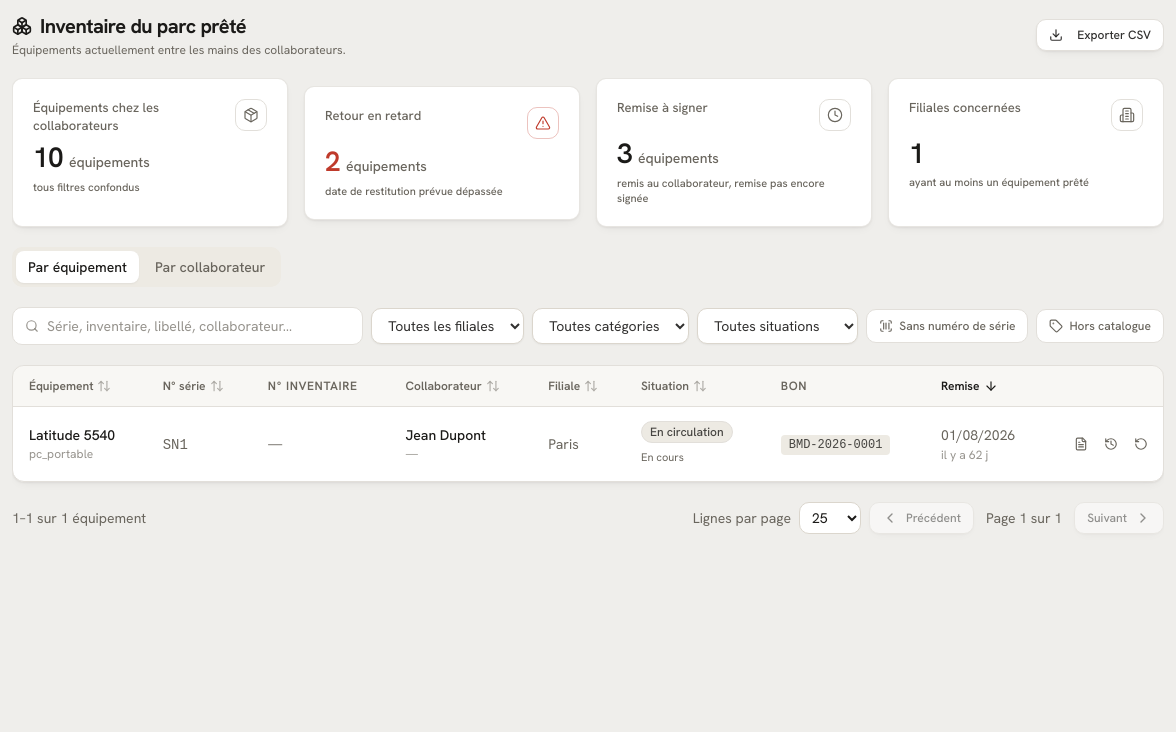
Test case: InventairePage › cliquer sur la tuile « Retour en retard » filtre la liste et affiche le chip actif
Expected: the text "Jean Dupont" is shown, [406,426,486,444]
Click the button "Retour en retard" at [442, 153], box [304,78,580,227]
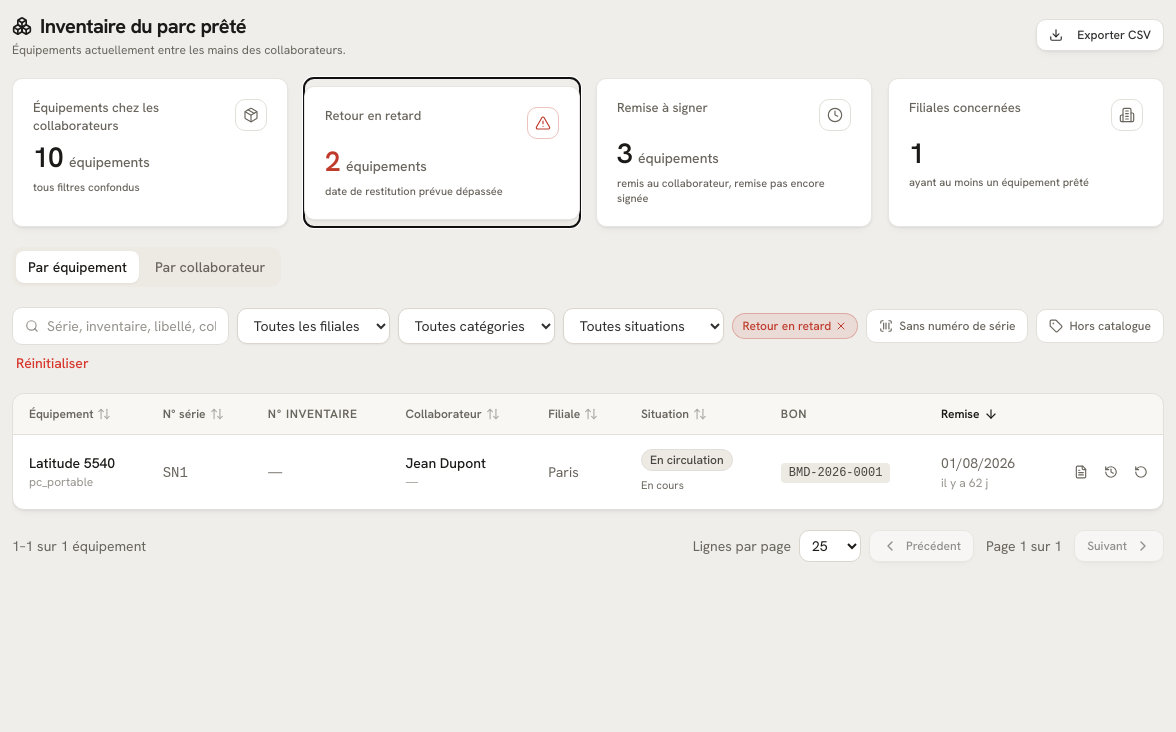
Result: the button with aria-label "Retirer le filtre « Retour en retard »" is shown at [732,313,858,339]
